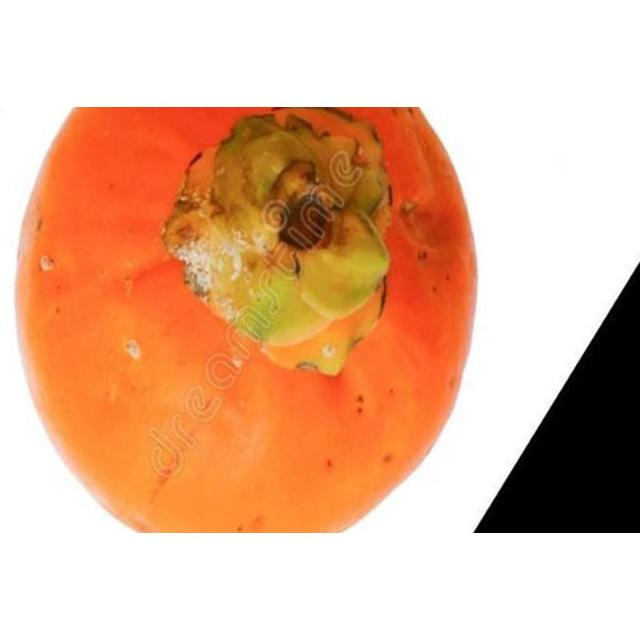good: (14, 107, 480, 533)
